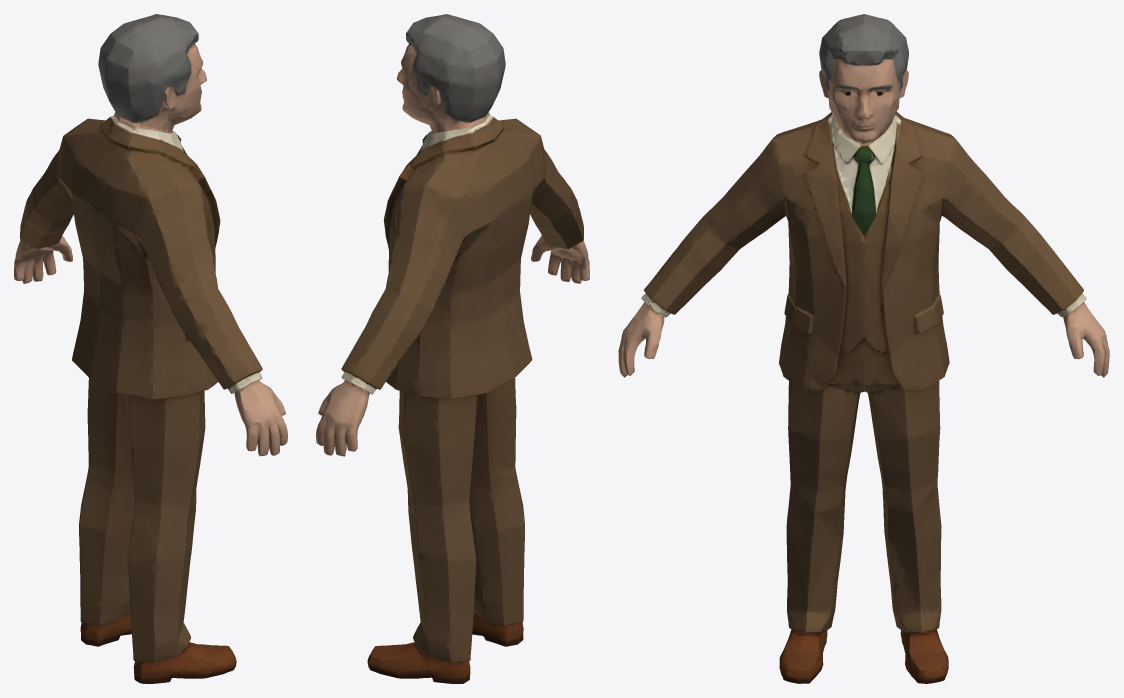
The model's file is diner-man.glb.
3 views of the same model, side by side, from view 1: azimuth 30°, elevation 25°; view 2: azimuth 150°, elevation 25°; view 3: azimuth 270°, elevation 25° (orthographic).
Visible parts, largest first — view 1: tripo_node_9c9e1282-e6fb-4c2c-adc4-56505caf2d12; view 2: tripo_node_9c9e1282-e6fb-4c2c-adc4-56505caf2d12; view 3: tripo_node_9c9e1282-e6fb-4c2c-adc4-56505caf2d12.
Boxes of the visible parts, box(x1,y1,x2,y2) form: tripo_node_9c9e1282-e6fb-4c2c-adc4-56505caf2d12: box(14, 14, 287, 683); tripo_node_9c9e1282-e6fb-4c2c-adc4-56505caf2d12: box(316, 14, 589, 683); tripo_node_9c9e1282-e6fb-4c2c-adc4-56505caf2d12: box(618, 14, 1109, 683).
Bounding box in the file's own units: 0.3477 × 1.8 × 1.25.
Materials: 1 (1 with a texture image).
